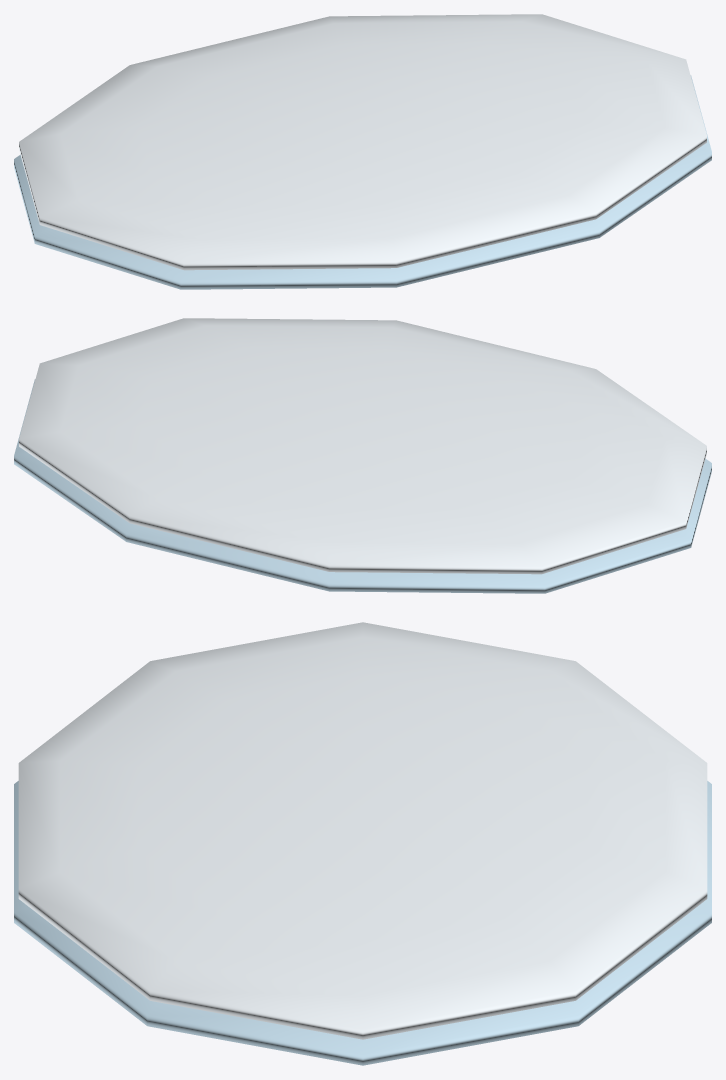
File: polar-tundra-and-alpine-fauna-ice-floe-slab-2fcef95f__6084.glb
3 renders of one model, top to bottom at view 1: azimuth 30°, elevation 25°; view 2: azimuth 150°, elevation 25°; view 3: azimuth 270°, elevation 25°, orthographic. The views are drawn at different scales.
Visible parts, largest first — view 1: ice-floe-slab; view 2: ice-floe-slab; view 3: ice-floe-slab.
Part boxes in pixels (left/top/right/bottom): ice-floe-slab: left=14, top=14, right=711, bottom=289; ice-floe-slab: left=14, top=318, right=711, bottom=593; ice-floe-slab: left=14, top=622, right=711, bottom=1065.
Bounding box in the file's own units: 3.94 × 0.37 × 2.81.
